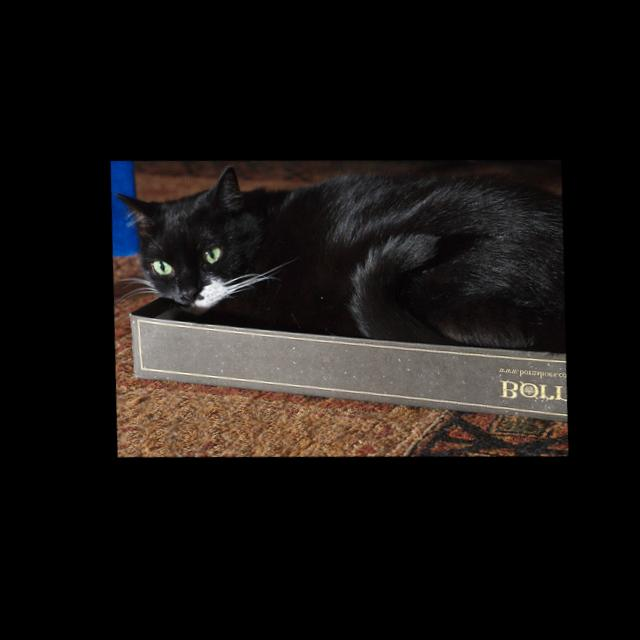animals: (109, 163, 244, 305)
